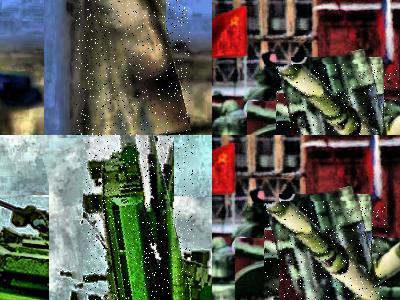tanks: (85, 136, 193, 300), (102, 1, 190, 136), (266, 203, 383, 300), (278, 66, 389, 136), (285, 244, 400, 294), (213, 238, 286, 300), (297, 110, 400, 136)
